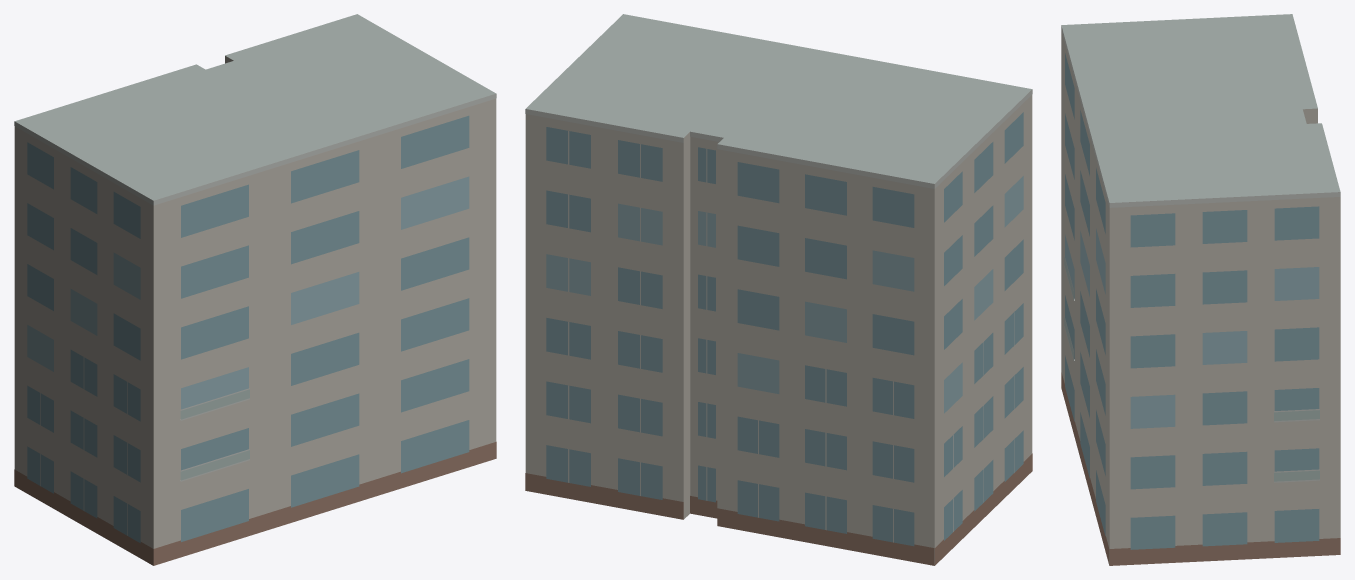
Rendered from survey-upis-33038902.glb.
The picture shows the model from 3 angles, left to right: view 1: azimuth 30°, elevation 25°; view 2: azimuth 150°, elevation 25°; view 3: azimuth 270°, elevation 25°; orthographic projection. The views are drawn at different scales.
Visible parts, largest first — view 1: survey-upis-33038902.tmp; view 2: survey-upis-33038902.tmp; view 3: survey-upis-33038902.tmp.
Part boxes in pixels (x1,y1,x2,y2): survey-upis-33038902.tmp: (14, 14, 496, 565); survey-upis-33038902.tmp: (525, 14, 1032, 565); survey-upis-33038902.tmp: (1061, 14, 1340, 565).
Size of the model in its own units: 20.46 by 18.3 by 12.77.
